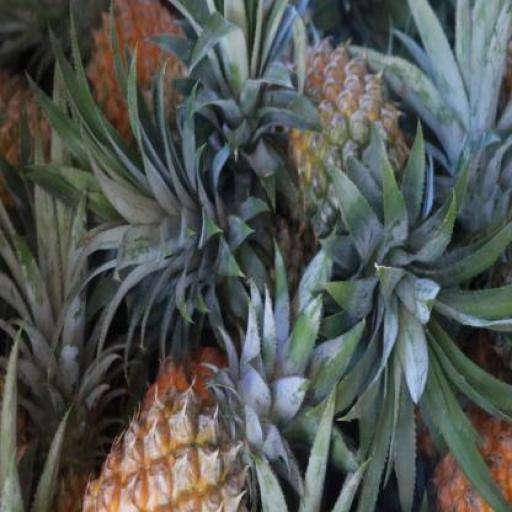------------------------------: (284, 40, 424, 250)
Pineapple - v8 v1: (80, 375, 262, 511)
